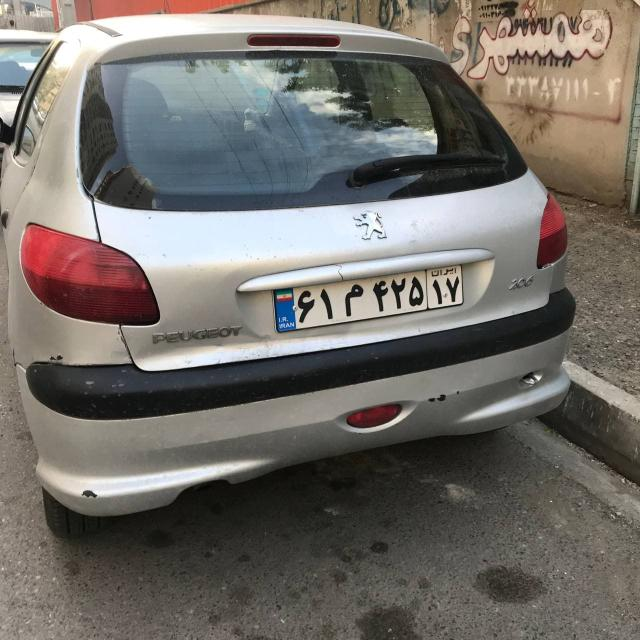Plates: (271, 260, 467, 332)
